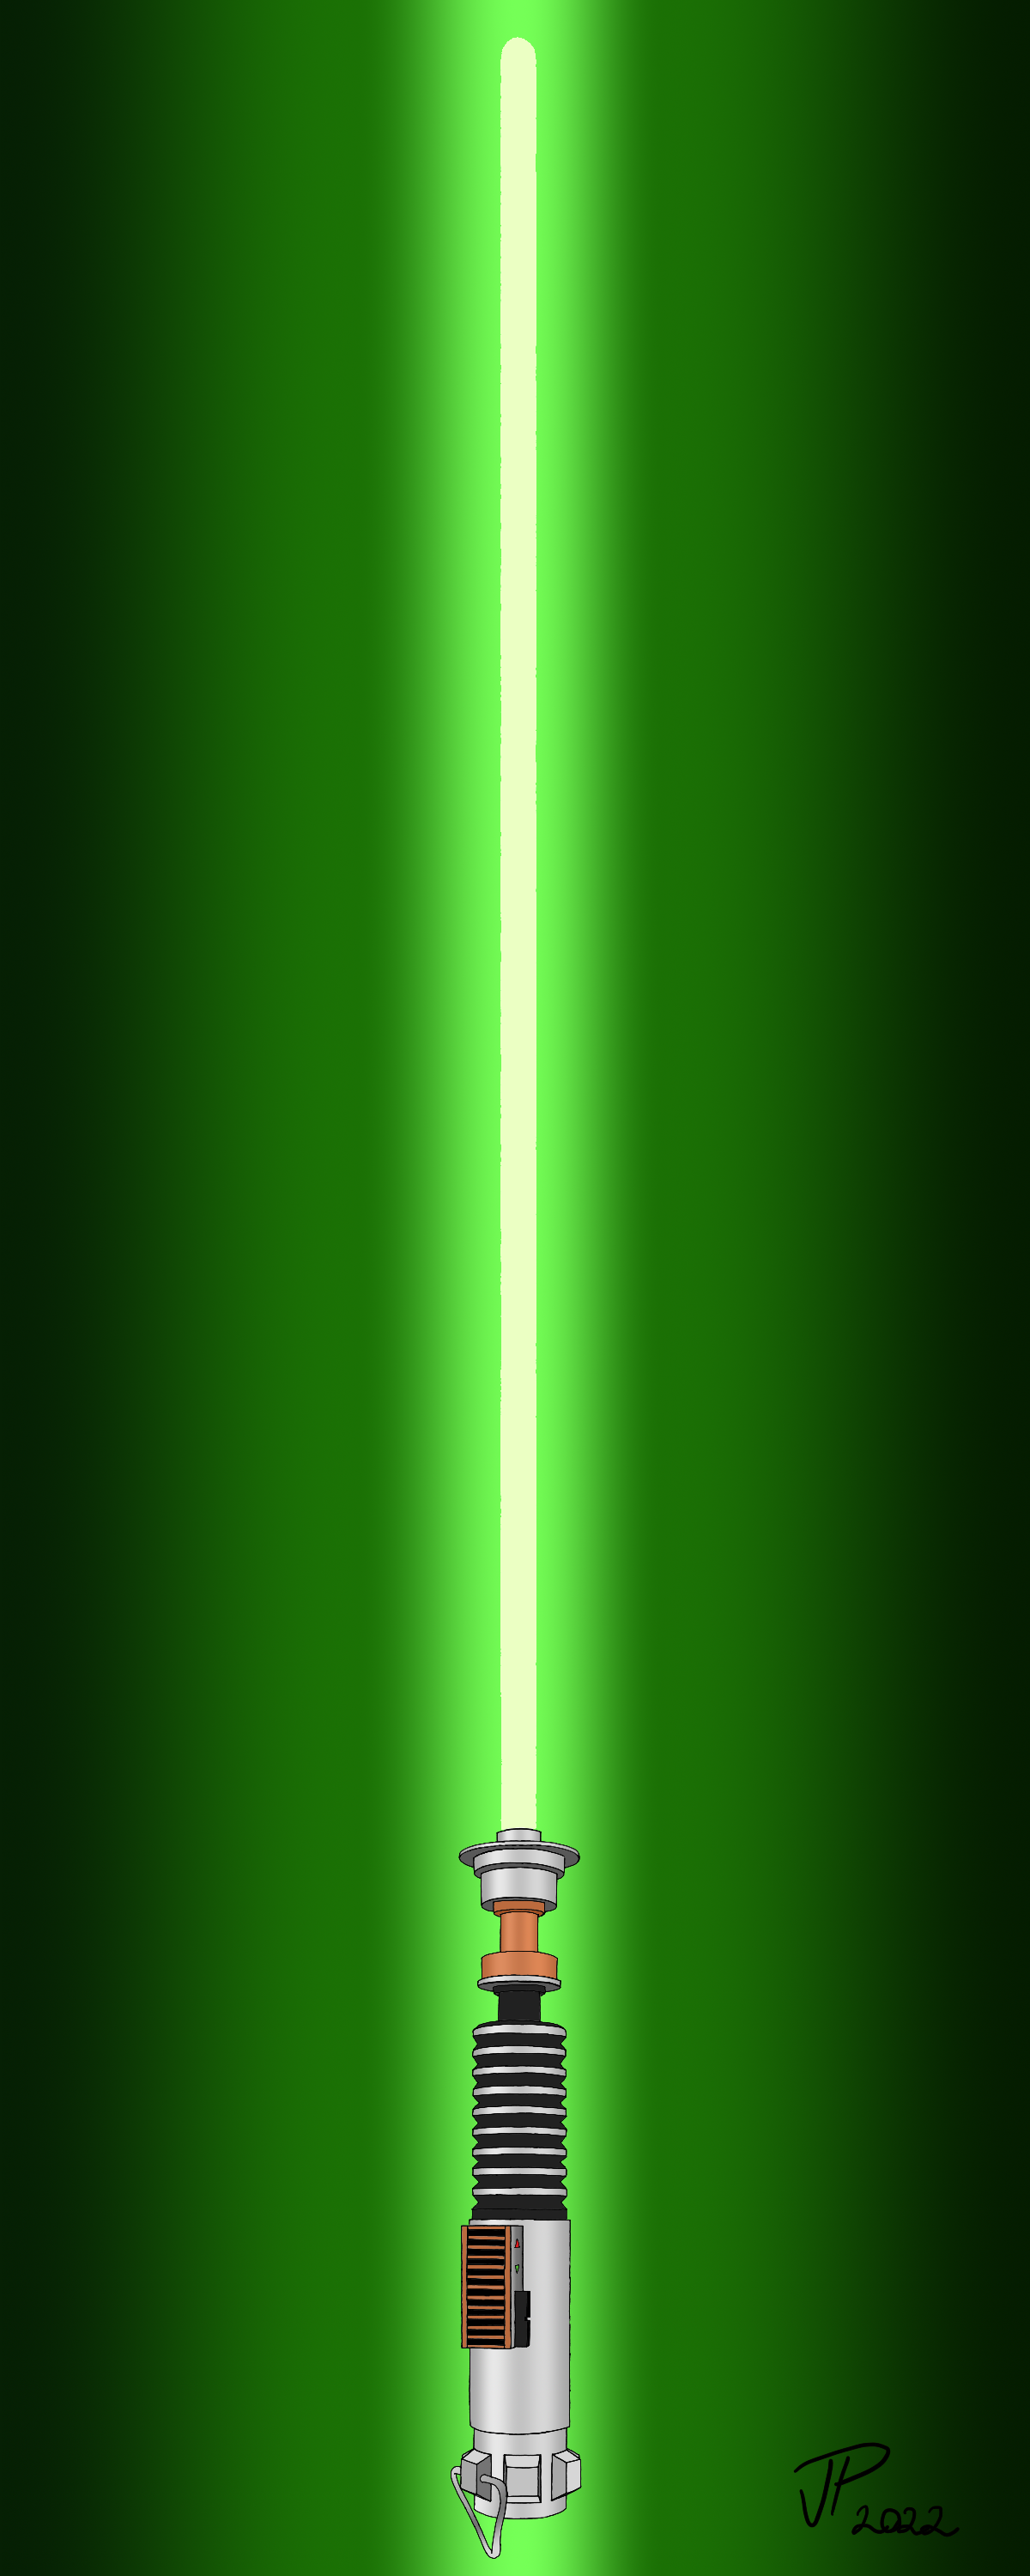lightsaber: (412, 0, 624, 2576)
